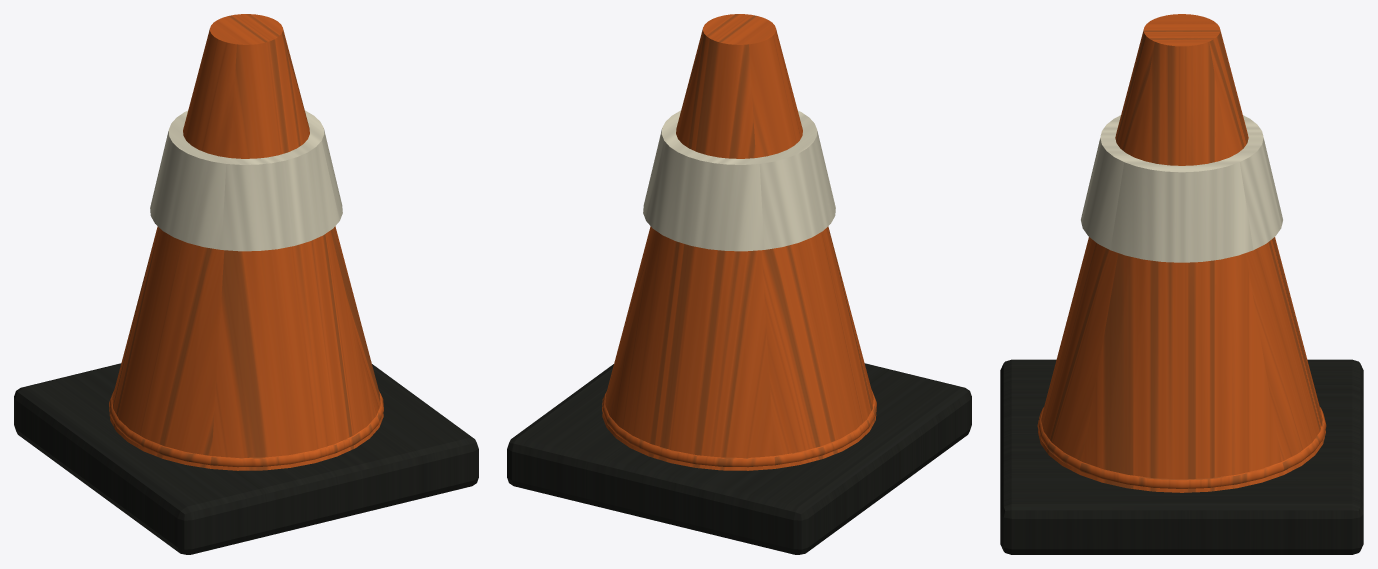
Rendered from traffic-cone.obj.
3 renders of one model, left to right at view 1: azimuth 30°, elevation 25°; view 2: azimuth 150°, elevation 25°; view 3: azimuth 270°, elevation 25°, orthographic. The views are drawn at different scales.
Parts seen in each view (by area): view 1: traffic-cone; view 2: traffic-cone; view 3: traffic-cone.
Part boxes in pixels (x1,y1,x2,y2): traffic-cone: (14,14,478,554); traffic-cone: (507,14,971,554); traffic-cone: (1000,14,1363,554).
Size of the model in its own units: 0.52 by 0.715 by 0.52.
1 material, 1 textured.
